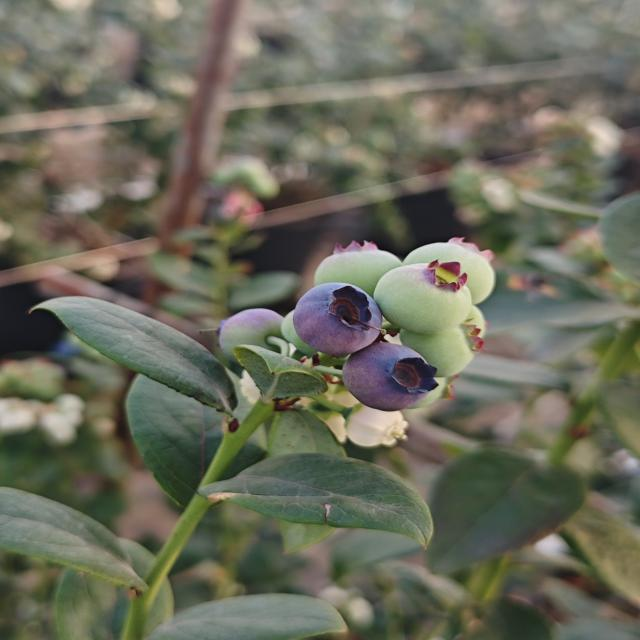ripe: (286, 278, 396, 350), (338, 342, 451, 412)
